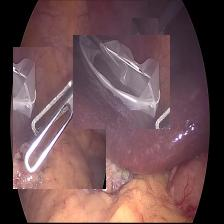Grasper: (14, 47, 106, 189), (132, 18, 158, 59)
Specimen Bag: (74, 35, 170, 129)
